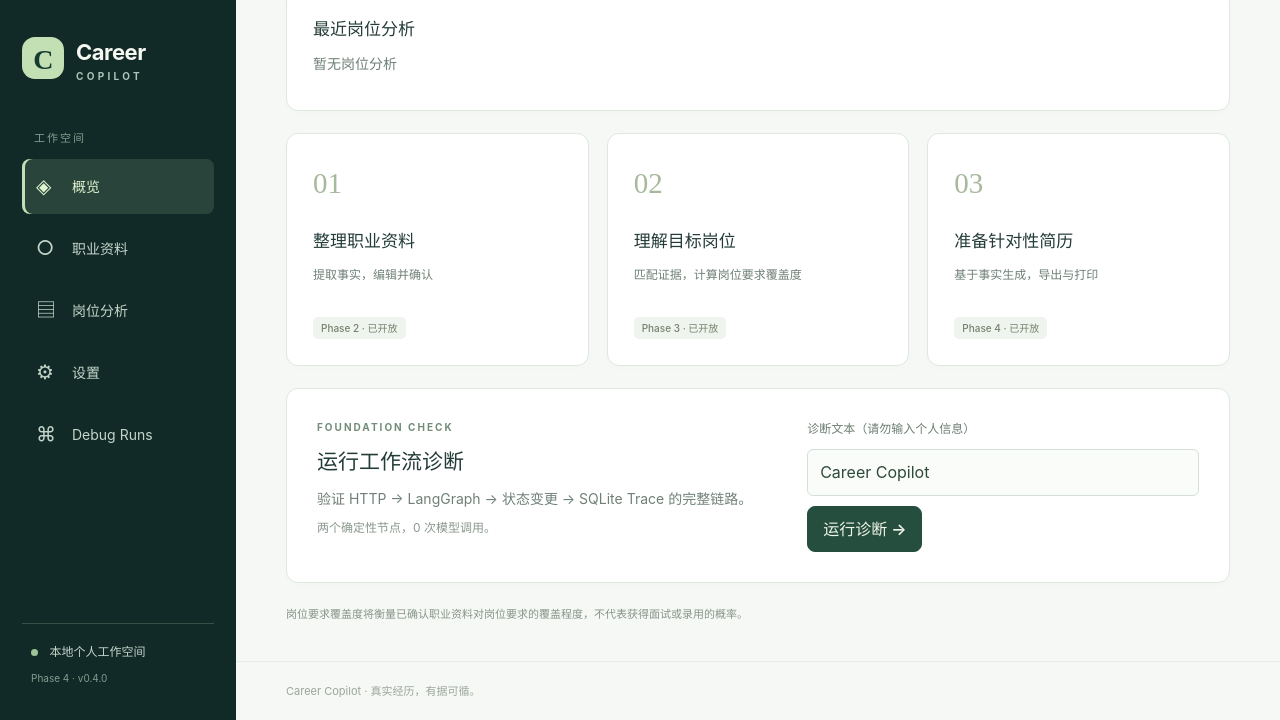
Test: Phase 1 shell › displays request failures and re-enables diagnostic control
(page scrolled)
Click the button "运行诊断 →": (865, 529) left=807, top=506, right=922, bottom=552
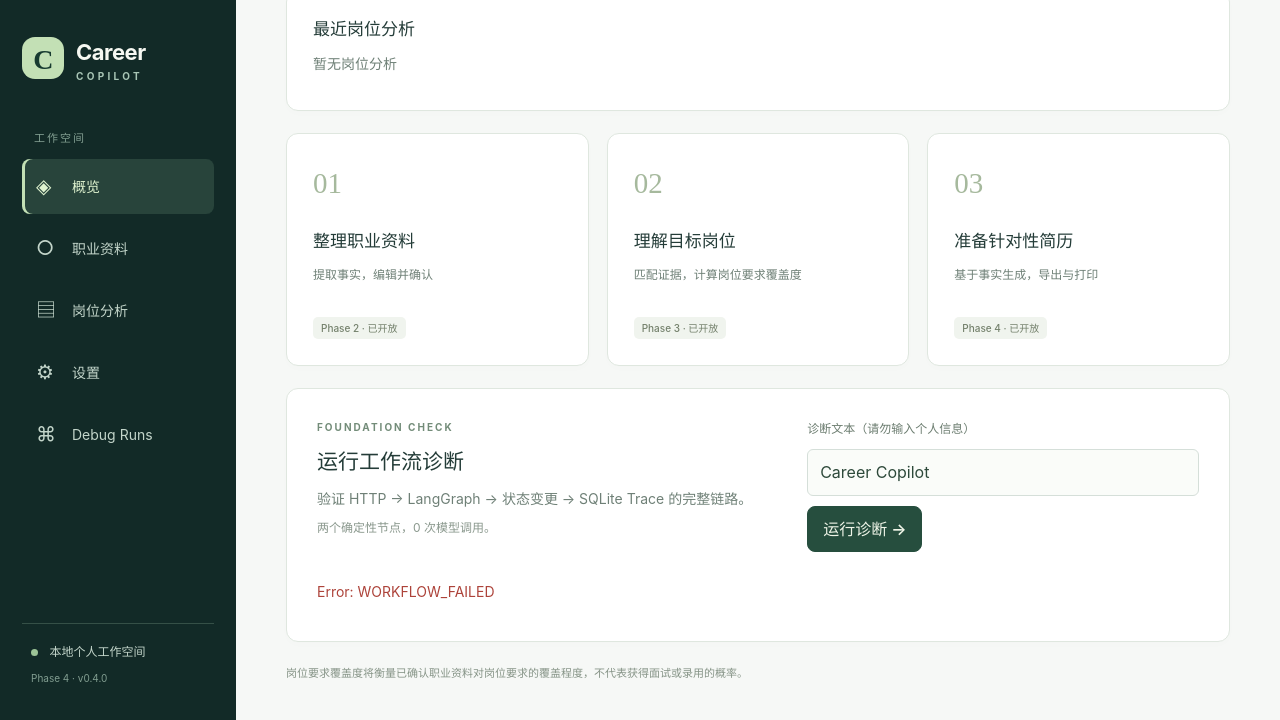
Check: the message shows "WORKFLOW_FAILED", box left=317, top=583, right=494, bottom=600
